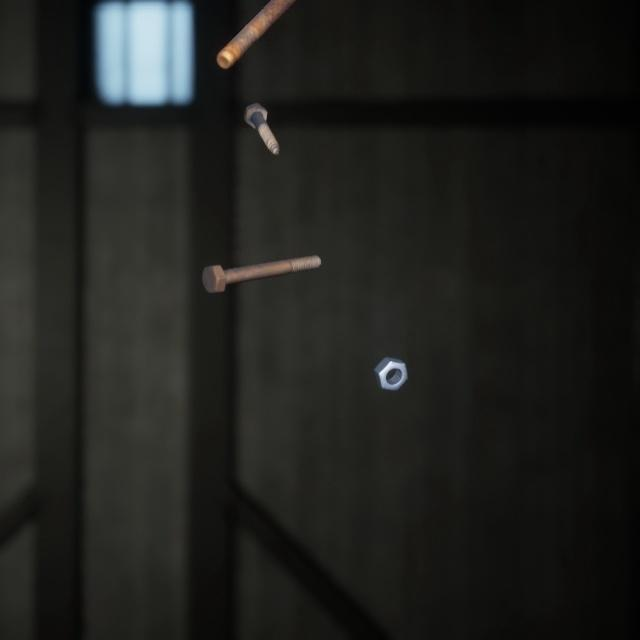bolt: (197, 233, 325, 280), (212, 0, 293, 64), (239, 85, 284, 145)
nut: (369, 334, 412, 377)
